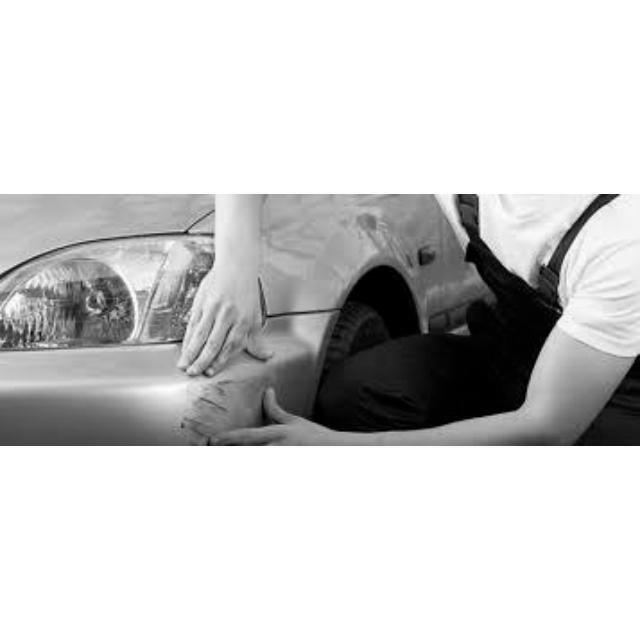front-bumper-dent: (0, 293, 372, 445)
